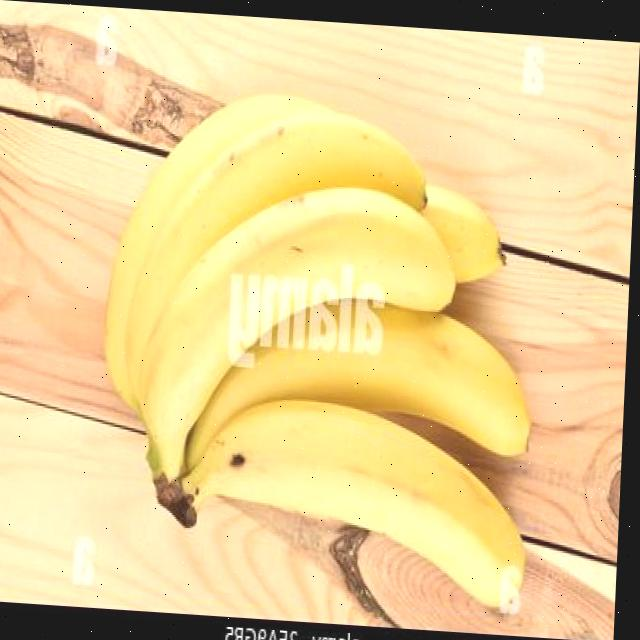banana: (90, 77, 558, 617)
